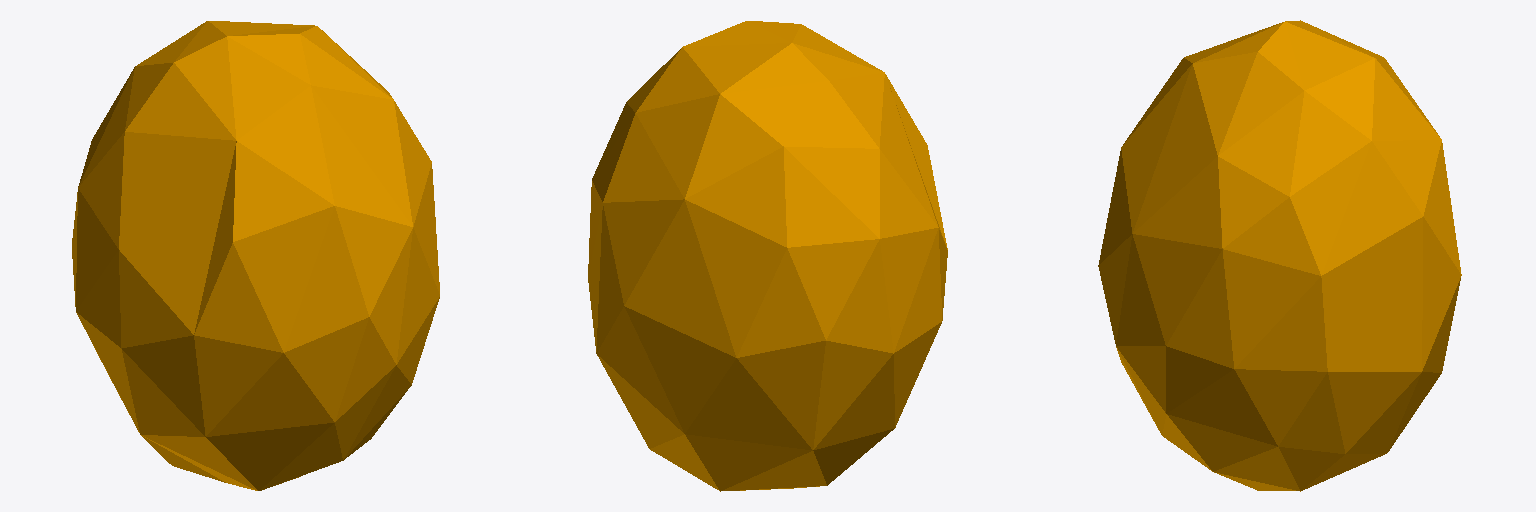
robot.urdf — simple_ellipsoid:
<?xml version="1.0"?>
<robot name="simple_ellipsoid">
    <link name="object">
        <visual>
            <geometry>
                <mesh filename="decomposed_new1.obj"/>
            </geometry>
        </visual>
        <collision>
            <geometry>
                <mesh filename="decomposed_new1.obj"/>
            </geometry>
        </collision>
        <inertial>
            <origin xyz="0 0 0" rpy="0 0 0"/>
            <mass value="0.1"/>
            <inertia ixx="0.0004" ixy="0" ixz="0" iyy="0.0004" iyz="0" izz="0.0002"/>
        </inertial>
    </link>
</robot>

--- Render facts (derived) ---
Views: 3 orthographic renders of the robot side by side, from view 1: azimuth 30°, elevation 25°; view 2: azimuth 150°, elevation 25°; view 3: azimuth 270°, elevation 25°.
Robot: simple_ellipsoid — 1 links, 0 joints (none); root link object; default pose: all joints at 0.
Visible links, largest first — view 1: object; view 2: object; view 3: object.
Link boxes in pixels (bbox=[...]): object: bbox=[72, 21, 439, 490]; object: bbox=[588, 21, 947, 491]; object: bbox=[1098, 20, 1461, 491].
Bounding box of the posed robot: 0.1012 × 0.1033 × 0.1388 m (x, y, z).
Meshes: 1 distinct files referenced, 1 mesh visuals loaded (1 OBJ).
